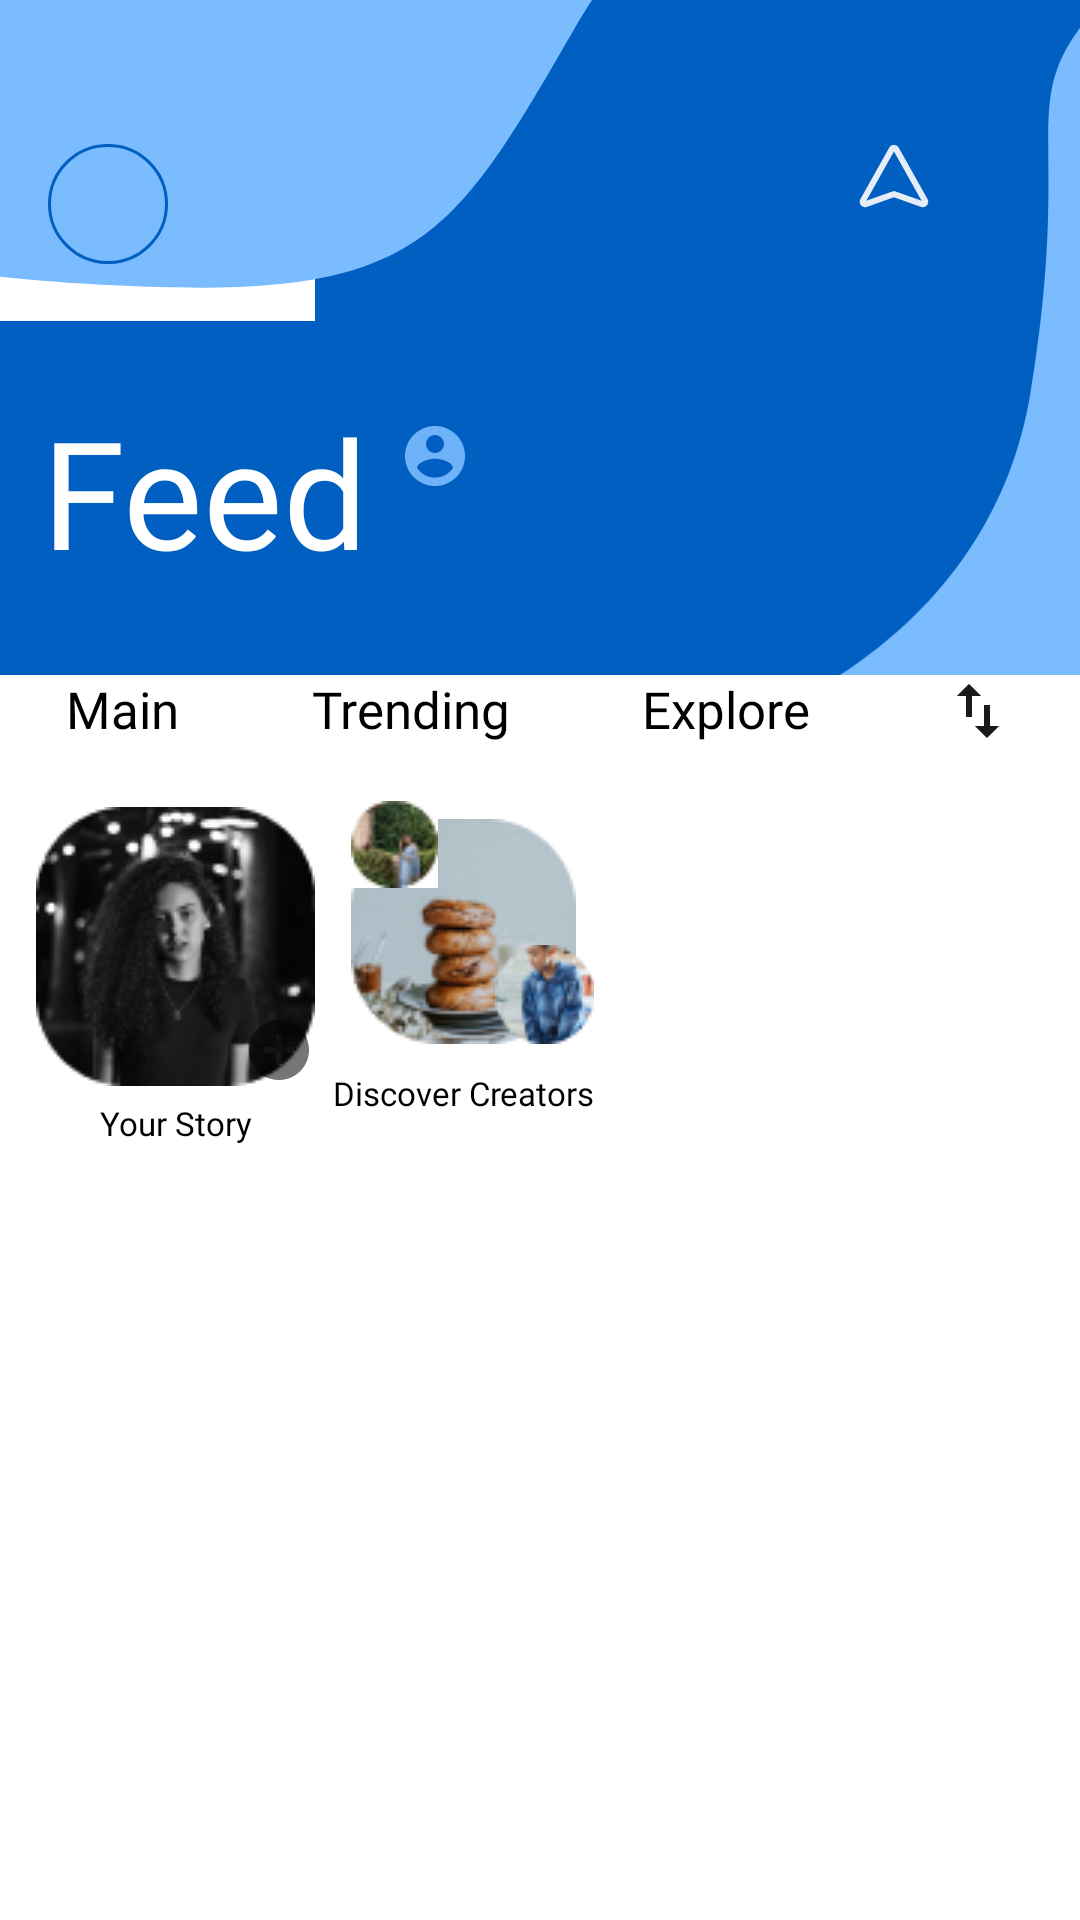

Point at icon controls on the screen. Image size 1080px x 1920px, points as (x=x, y=y).
account circle: (x=435, y=456)
